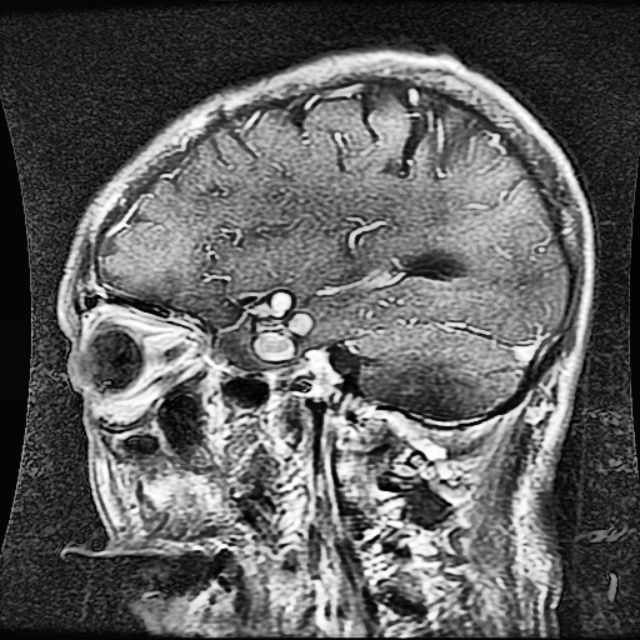Pituitary: (237, 285, 314, 364)
